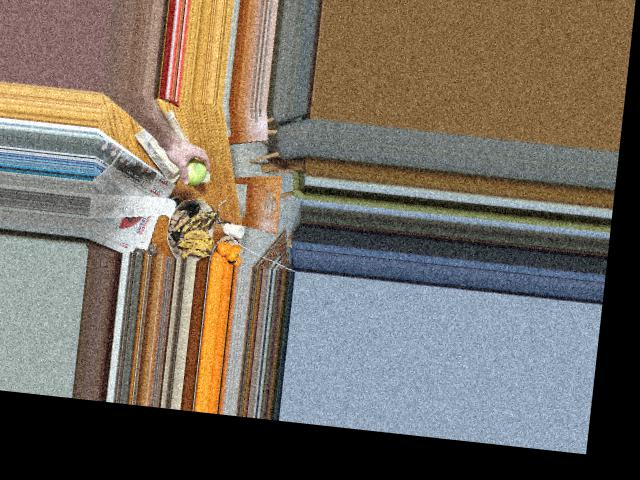apple: (175, 152, 212, 189)
